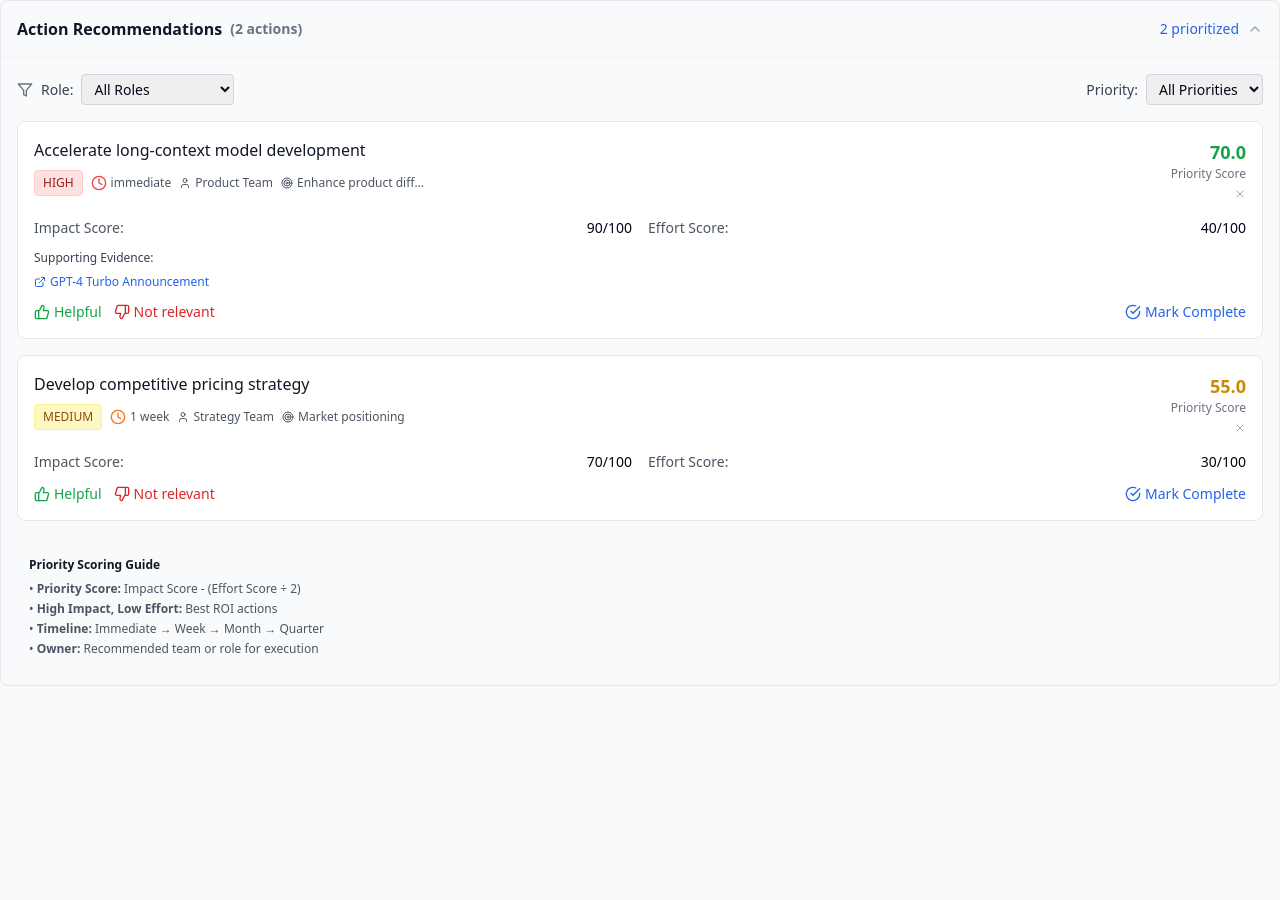
Test: ActionRecommendations Component › handles feedback submission
Click the button "Helpful" below "GPT-4 Turbo Announcement".
click(68, 312)  # box [34,302,102,322]
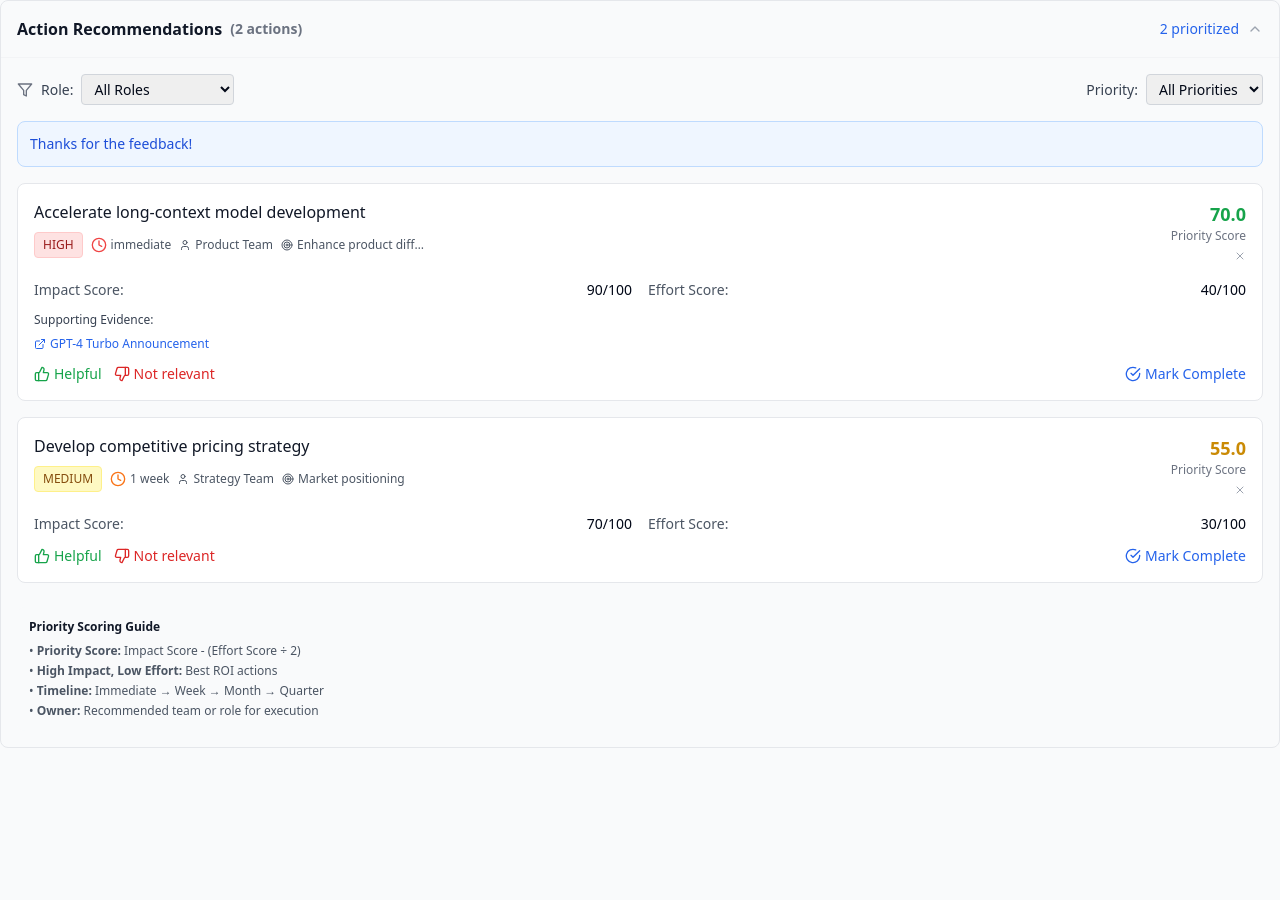
Check: the text "Thanks for the feedback!" is shown, box [17,121,1263,167]
